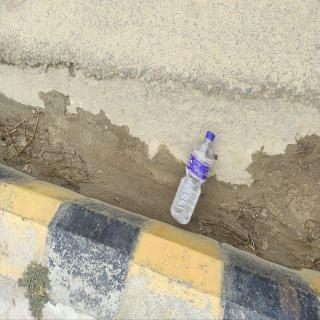Plastic-bottle: (170, 130, 218, 228)
